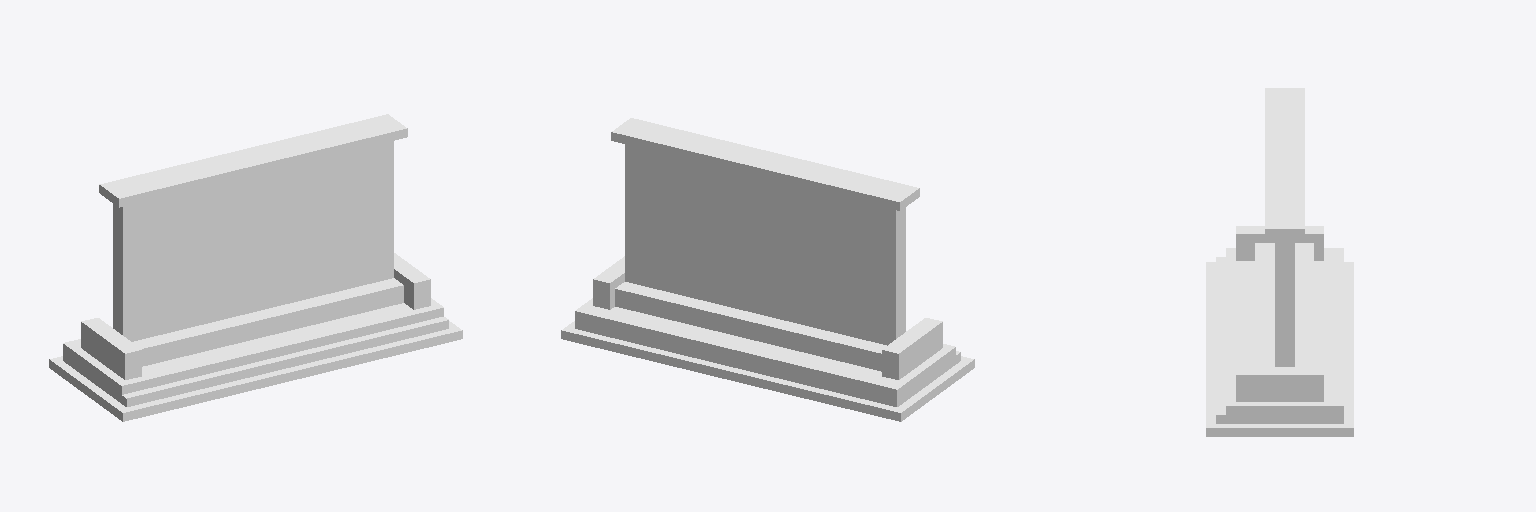
The model's file is Stoneplate.obj.
The picture shows the model from 3 angles: view 1: azimuth 30°, elevation 25°; view 2: azimuth 150°, elevation 25°; view 3: azimuth 270°, elevation 25°; orthographic projection.
Size of the model in its own units: 40 by 22 by 15.